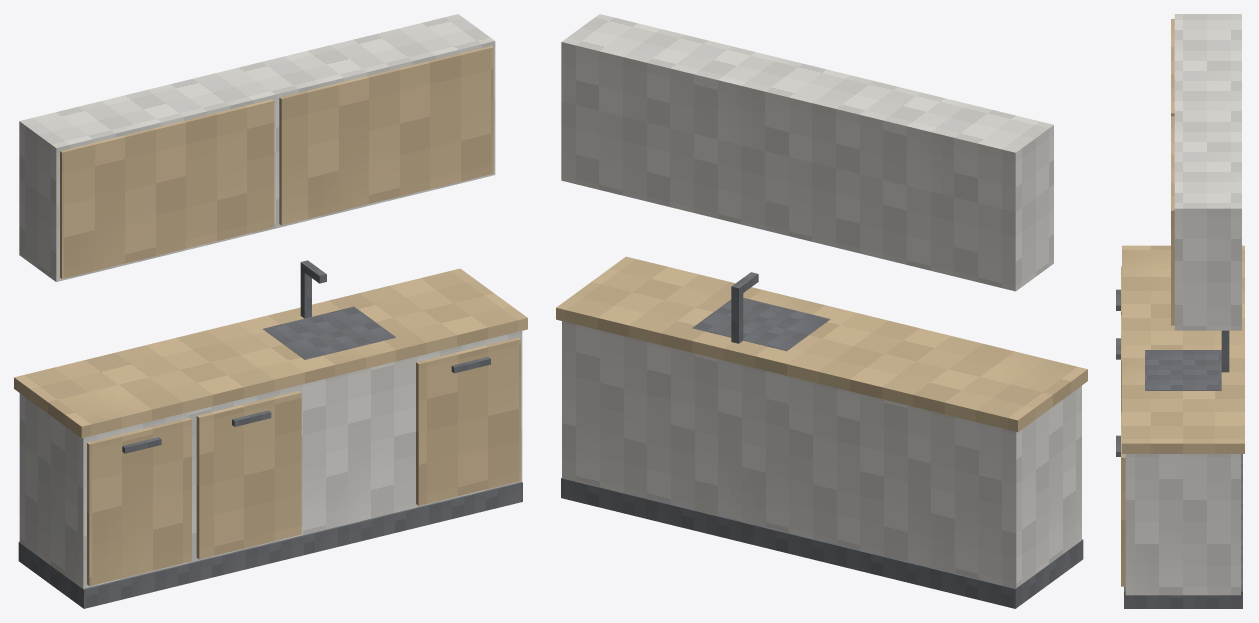
The model's file is pixel-modern-office-kitchenette-run-5979180f.glb.
3 views of the same model, side by side, from view 1: azimuth 30°, elevation 25°; view 2: azimuth 150°, elevation 25°; view 3: azimuth 270°, elevation 25° (orthographic). The views are drawn at different scales.
Parts seen in each view (by area): view 1: kitchenette-run; view 2: kitchenette-run; view 3: kitchenette-run.
Part boxes in pixels (x1,y1,x2,y2): kitchenette-run: [14, 14, 527, 608]; kitchenette-run: [556, 14, 1087, 608]; kitchenette-run: [1116, 14, 1244, 608].
Bounding box in the file's own units: 2.44 × 2.3 × 0.67.
3 materials, 3 textured.
